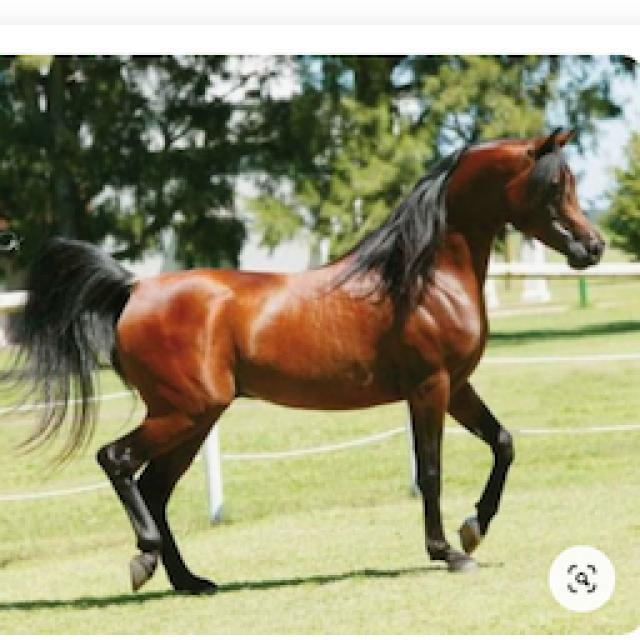Horse: (0, 120, 612, 597)
